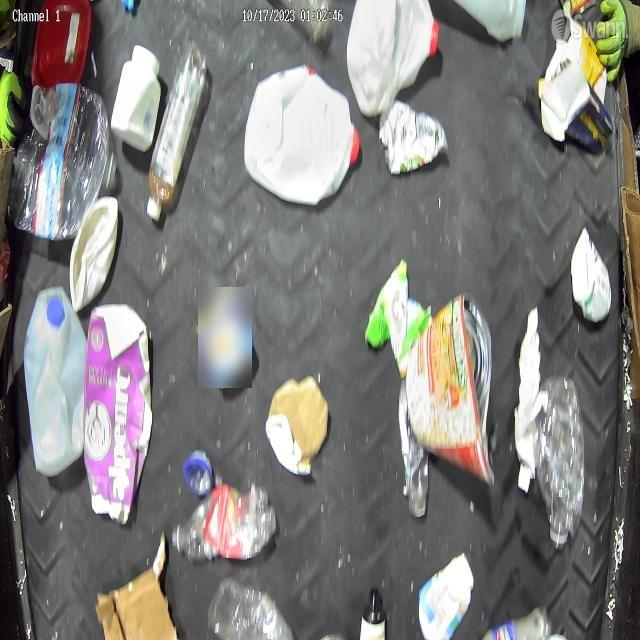milk_jug: (23, 288, 89, 482), (346, 1, 438, 118)
non_white_jug: (242, 68, 362, 200), (82, 306, 152, 524)
plastic_bottle: (146, 46, 207, 222), (532, 375, 584, 546), (174, 482, 277, 564), (208, 578, 296, 640)
